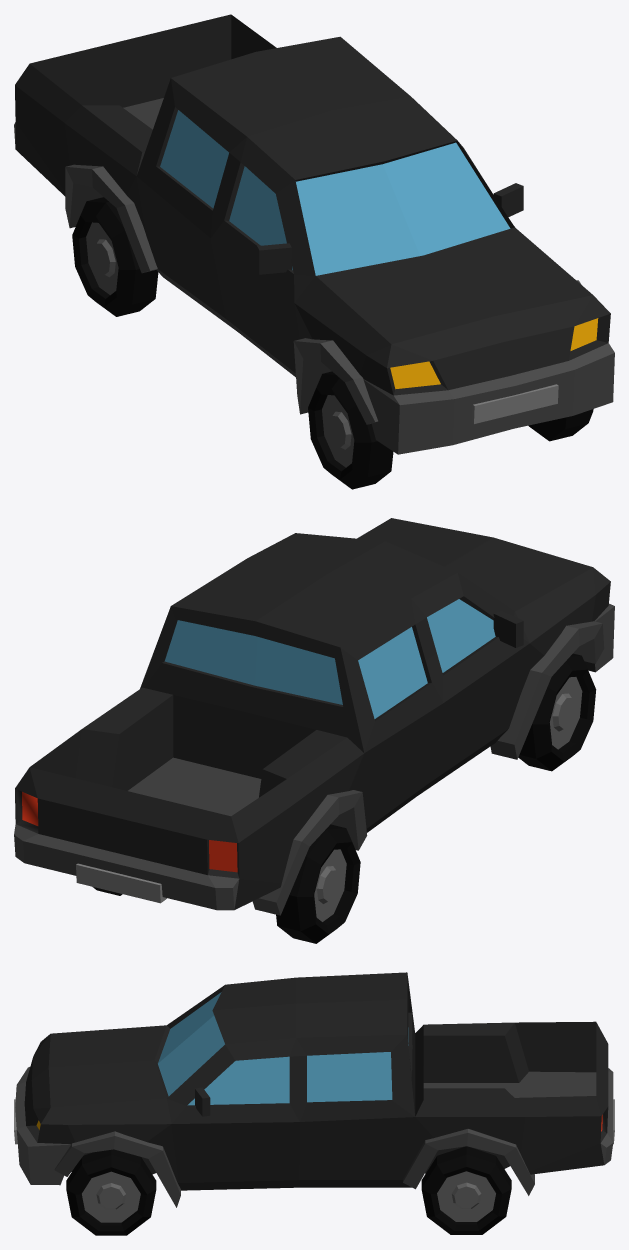
The model's file is car-7.fbx.
3 renders of one model, top to bottom at view 1: azimuth 30°, elevation 25°; view 2: azimuth 150°, elevation 25°; view 3: azimuth 270°, elevation 25°, orthographic. The views are drawn at different scales.
Parts seen in each view (by area): view 1: Car 5, Wheel5-2, Wheel5-4, Wheel5-3; view 2: Car 5, Wheel5-2, Wheel5-4; view 3: Car 5, Wheel5-1, Wheel5-3.
Boxes of the visible parts, x1=… form: Car 5: x1=14, y1=14, x2=614, y2=454; Wheel5-2: x1=72, y1=197, x2=158, y2=316; Wheel5-4: x1=308, y1=371, x2=393, y2=489; Wheel5-3: x1=528, y1=409, x2=593, y2=441; Car 5: x1=14, y1=518, x2=614, y2=915; Wheel5-2: x1=276, y1=824, x2=360, y2=943; Wheel5-4: x1=518, y1=653, x2=596, y2=771; Car 5: x1=14, y1=972, x2=614, y2=1207; Wheel5-1: x1=421, y1=1146, x2=511, y2=1234; Wheel5-3: x1=66, y1=1149, x2=156, y2=1235.
Bounding box in the file's own units: 462 × 433 × 1207.
